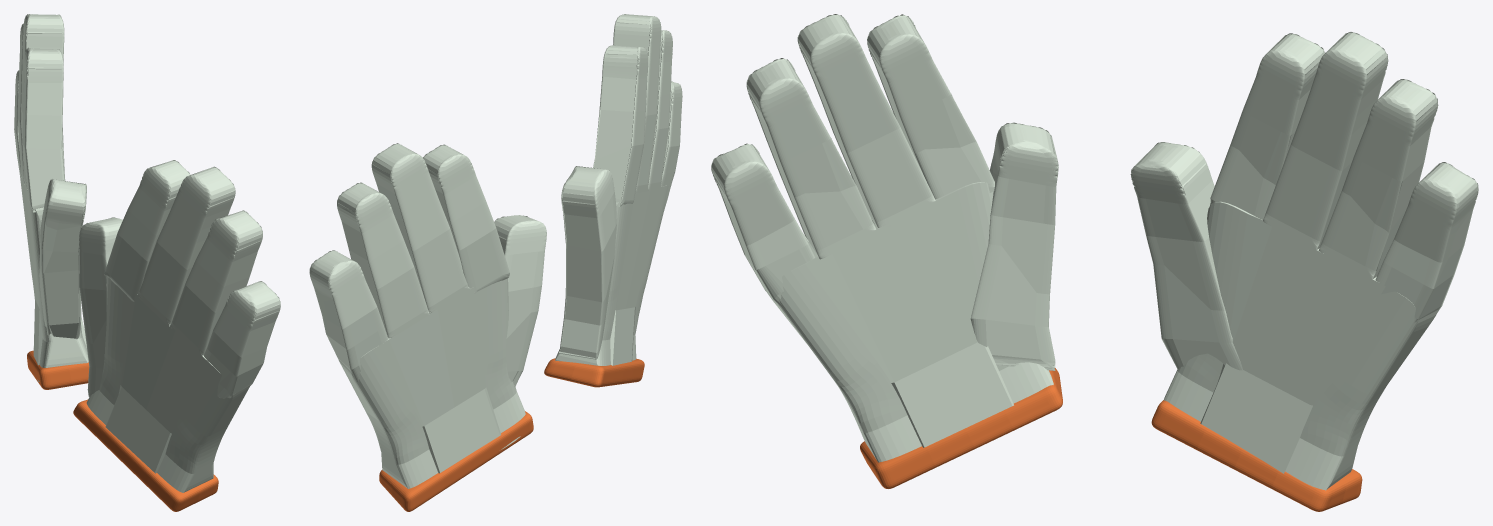
Rendered from Luva de raspa.fbx.
3 renders of one model, left to right at view 1: azimuth 30°, elevation 25°; view 2: azimuth 150°, elevation 25°; view 3: azimuth 270°, elevation 25°, orthographic. The views are drawn at different scales.
Parts seen in each view (by area): view 1: Cube.007, Cube.005, Cubo, Cubo.001; view 2: Cube.005, Cube.007, Cubo.001, Cubo; view 3: Cube.005, Cube.007, Cubo.001, Cubo.
Part boxes in pixels (box(x1,y1,x2,y2)): Cube.007: box(79, 160, 280, 492); Cube.005: box(14, 14, 88, 381); Cubo: box(73, 399, 218, 511); Cubo.001: box(27, 350, 89, 389); Cube.005: box(309, 143, 546, 488); Cube.007: box(555, 14, 682, 365); Cubo.001: box(379, 411, 533, 511); Cubo: box(544, 358, 644, 387); Cube.005: box(1130, 32, 1478, 490); Cube.007: box(711, 14, 1058, 462); Cubo.001: box(1151, 400, 1362, 511); Cubo: box(860, 368, 1062, 488).
Size of the model in its own units: 264 by 667 by 1004.
